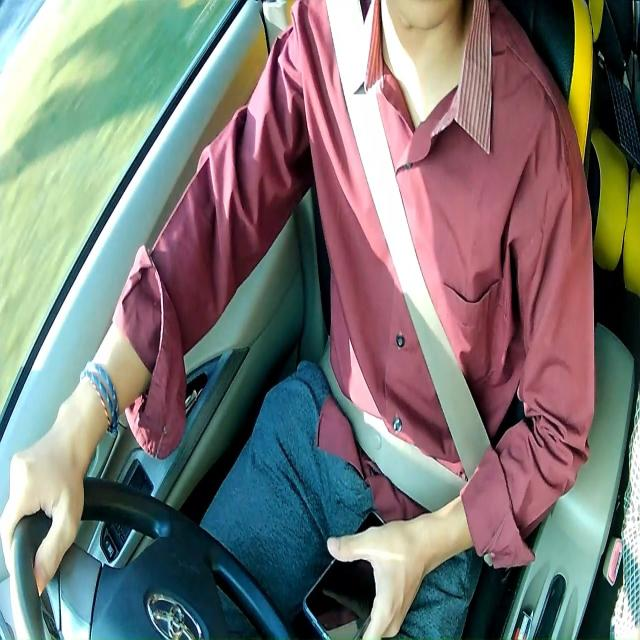phone: (302, 505, 388, 639)
